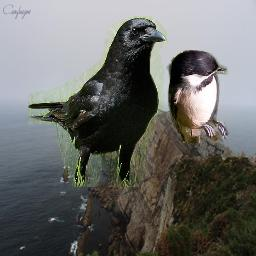Crow: (28, 16, 168, 187)
Swallow: (166, 47, 230, 143)
